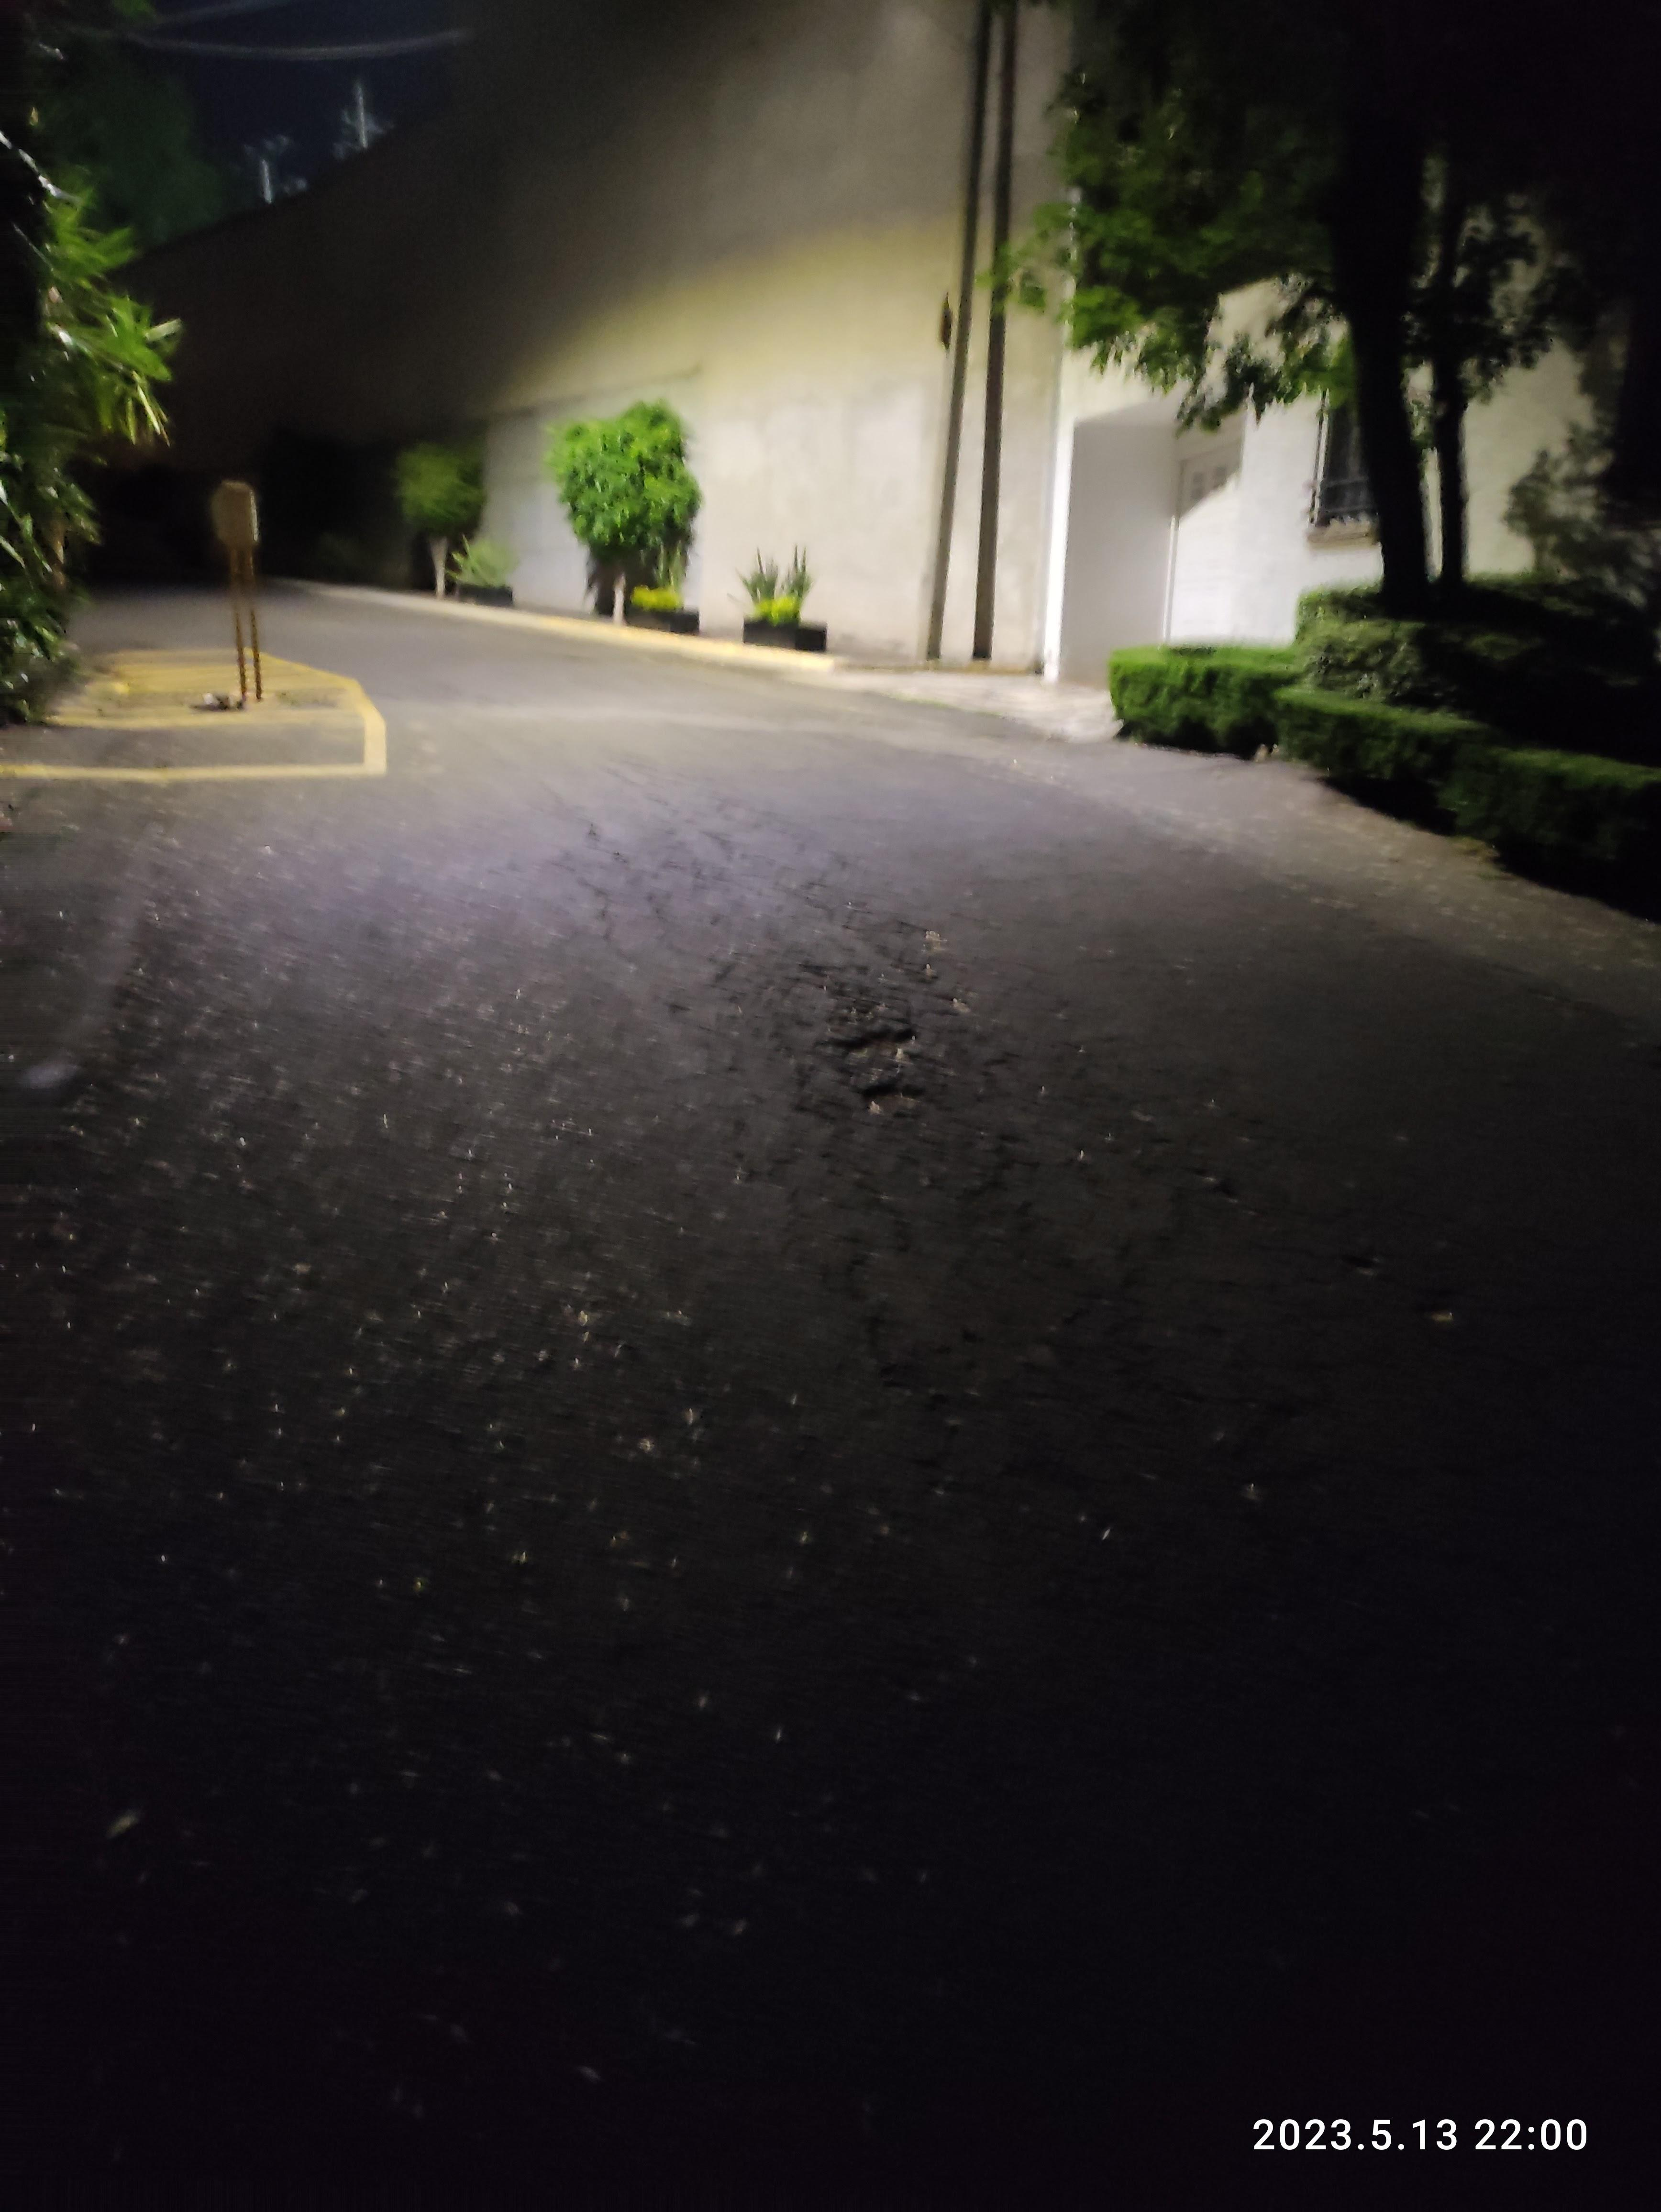pothole: (790, 872, 965, 1174)
